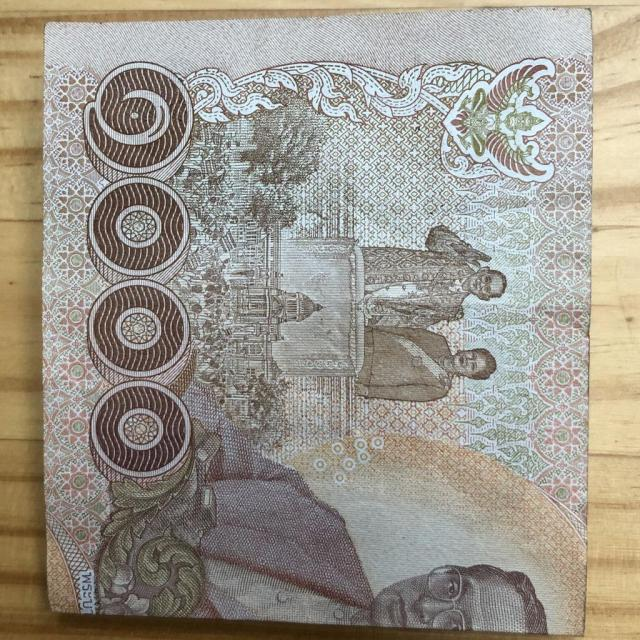THAI1000: (36, 7, 596, 639)
